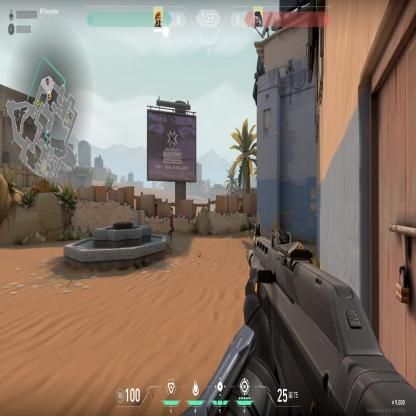enemy: (168, 206, 174, 242)
